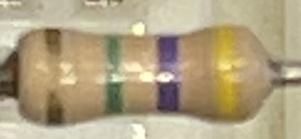Blue: (157, 33, 182, 115)
Green: (105, 34, 125, 115)
Side-Silver: (44, 26, 67, 123)
Yellow: (214, 25, 242, 124)
